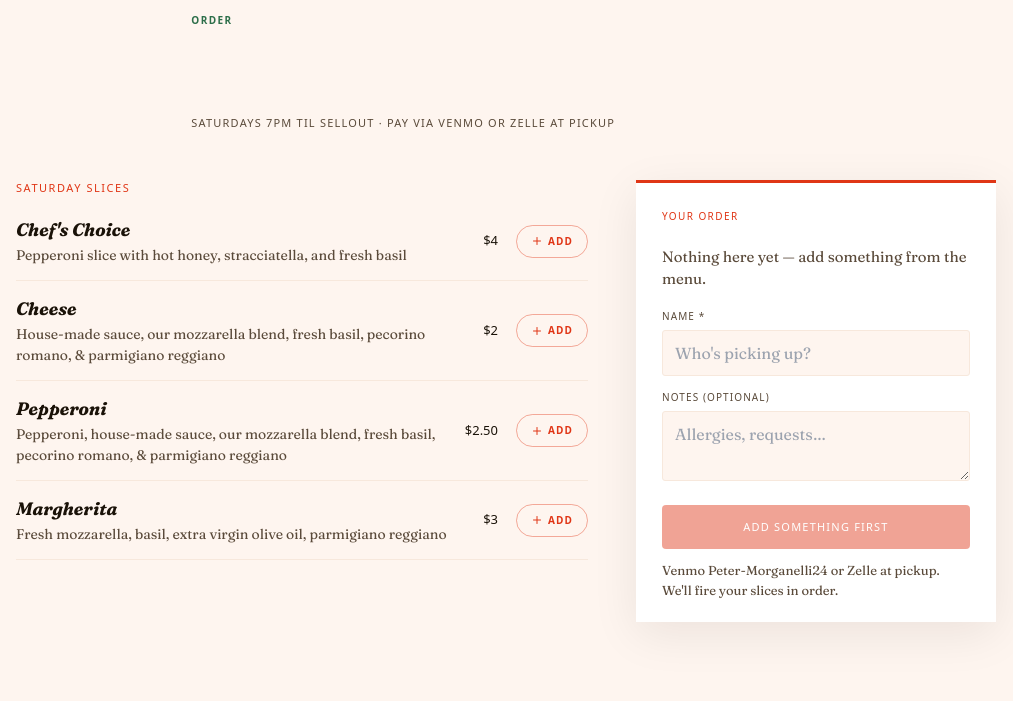
it: OrderPage between orders on a shared staff device › tells staff what to do when the session expires mid-service
Expected: the text "Chef's Choice" is shown, [16,218,130,241]
Step 1. Click the button "Add" next to "$4" → (552, 241), box [516,224,588,258]
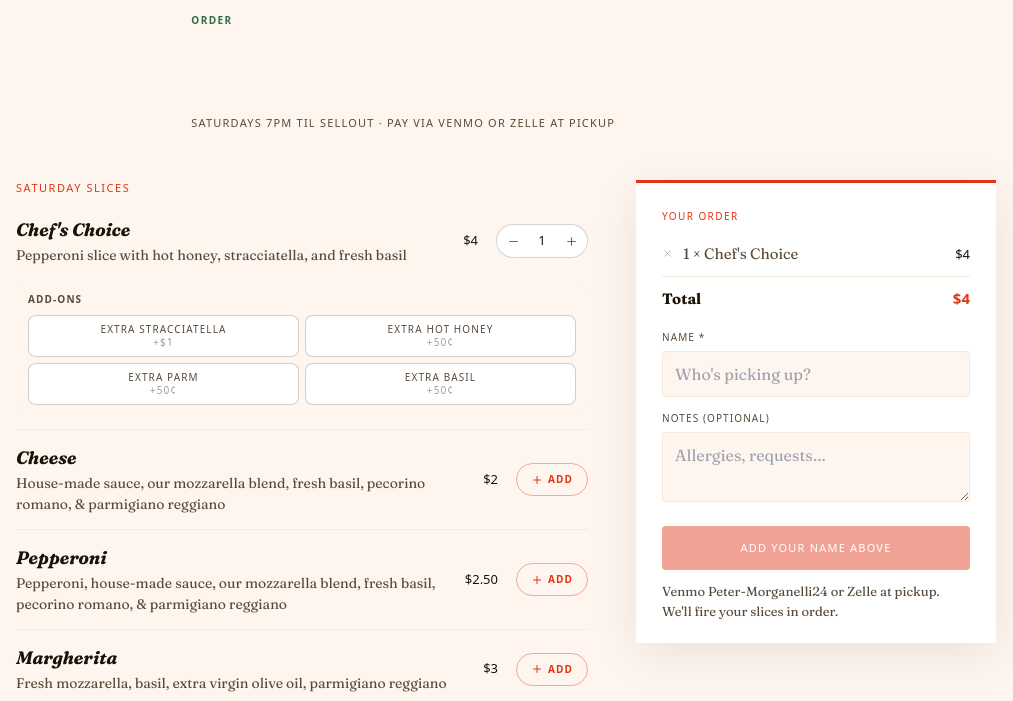
Step 2. Type "Sarah" into the field with placeholder "Who's picking up?" → (816, 374), box [662,350,970,396]
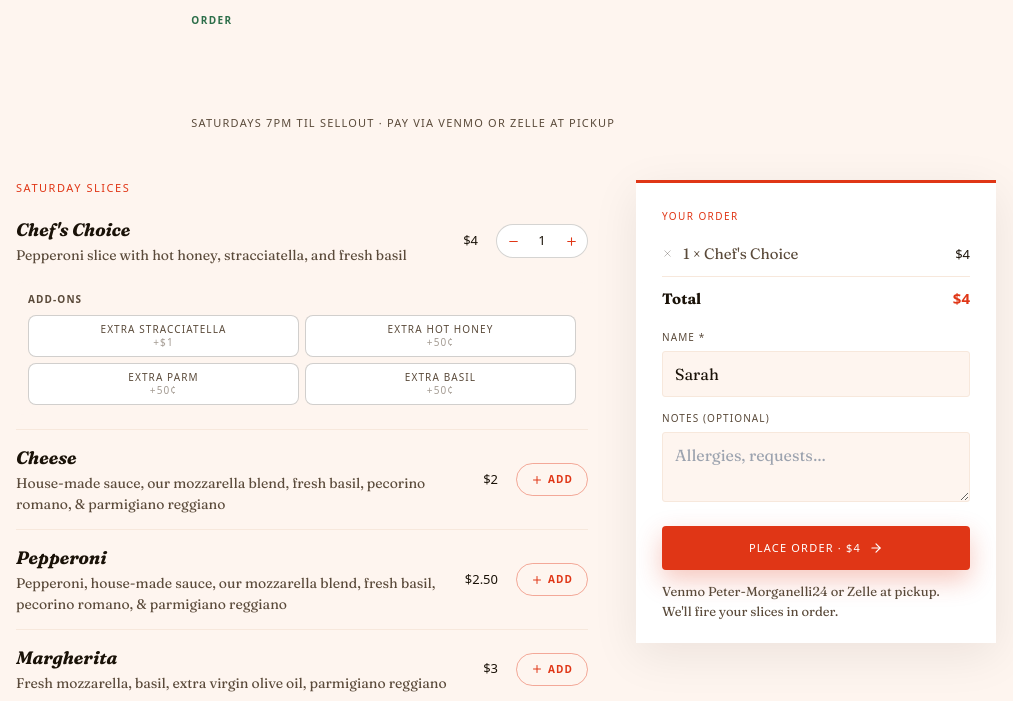
Step 3. Click the button "Place order · $4" → (816, 548), box [662,526,970,570]
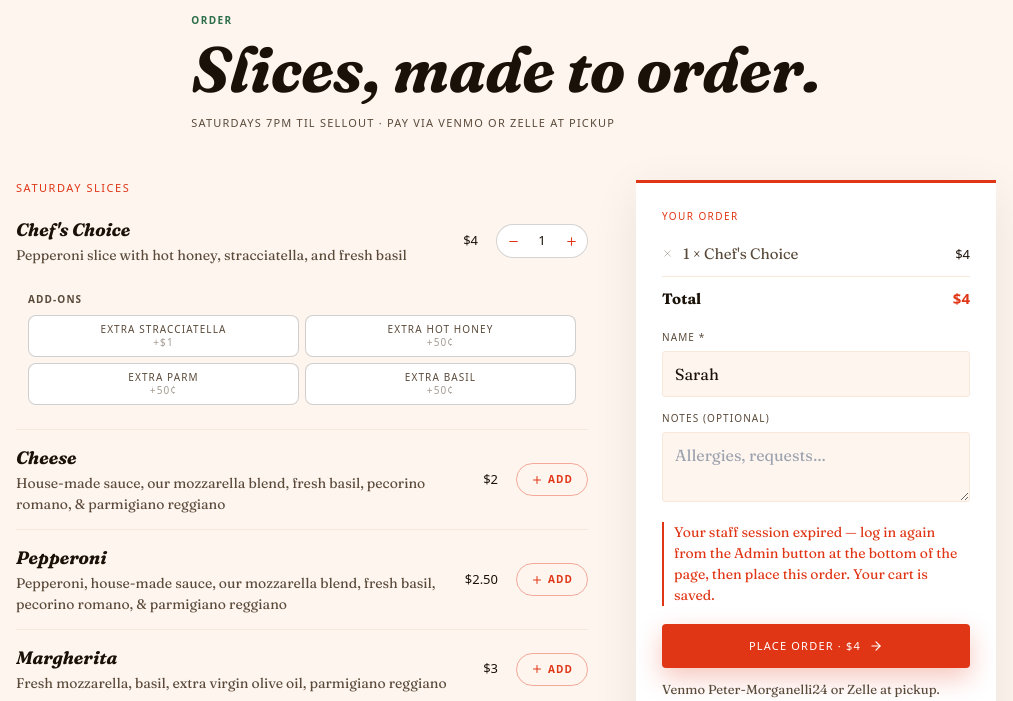
Expected: the text "cart is saved" is shown, [674,522,957,604]
